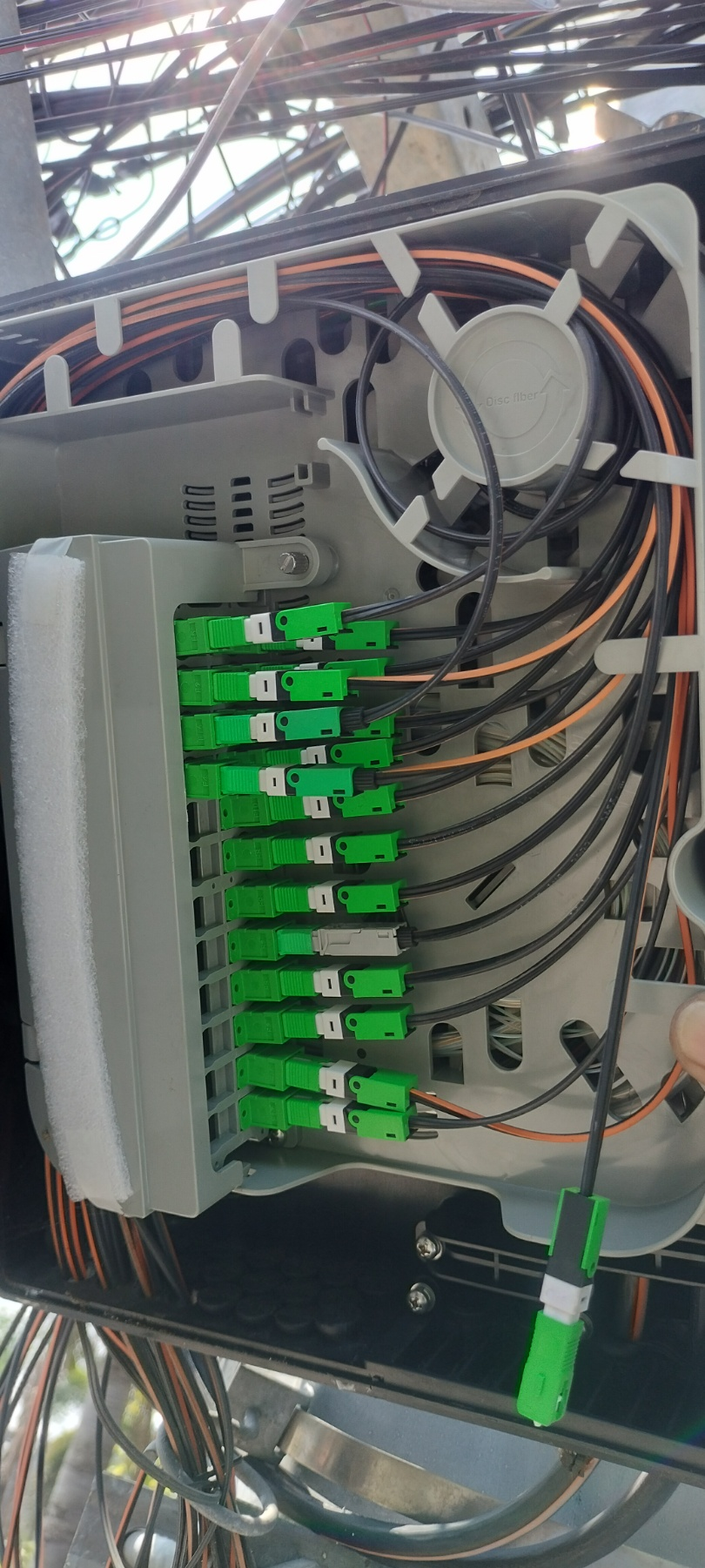no port: (191, 891, 225, 939), (204, 1061, 235, 1113), (189, 842, 220, 891), (202, 1019, 232, 1069), (195, 934, 226, 982), (185, 797, 218, 842), (208, 1102, 236, 1155), (199, 977, 228, 1024)
occupied: (286, 1054, 439, 1115), (209, 598, 357, 651), (261, 775, 413, 826), (212, 703, 376, 749), (288, 1098, 444, 1144), (249, 702, 403, 748), (264, 735, 406, 781), (255, 657, 405, 699), (270, 825, 410, 870), (218, 762, 386, 797), (213, 667, 357, 705), (285, 1006, 425, 1044), (277, 876, 415, 914), (256, 617, 397, 653), (280, 921, 424, 956), (281, 966, 423, 999)
